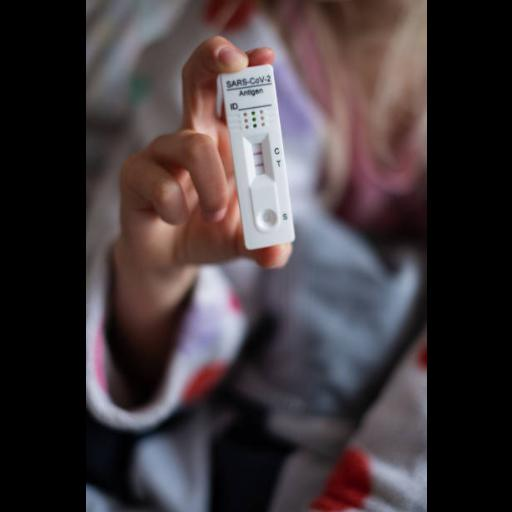Pos: (220, 66, 295, 249)
